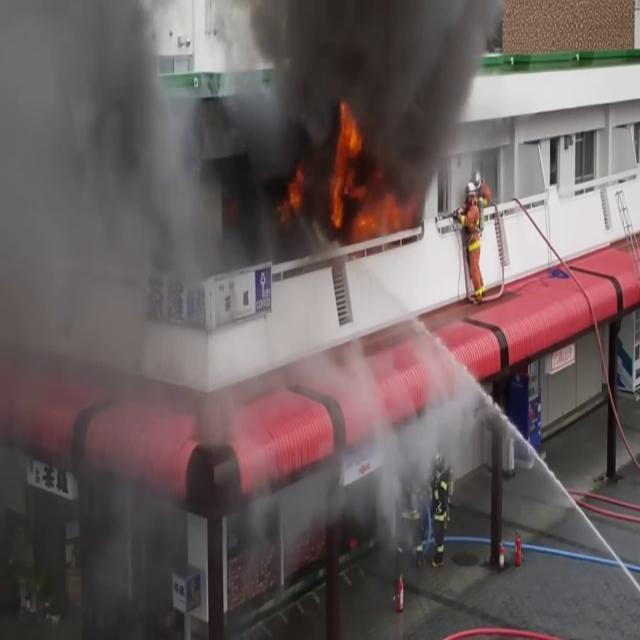Fire: (326, 95, 364, 234)
Smoke: (0, 0, 204, 623), (212, 0, 500, 206)
